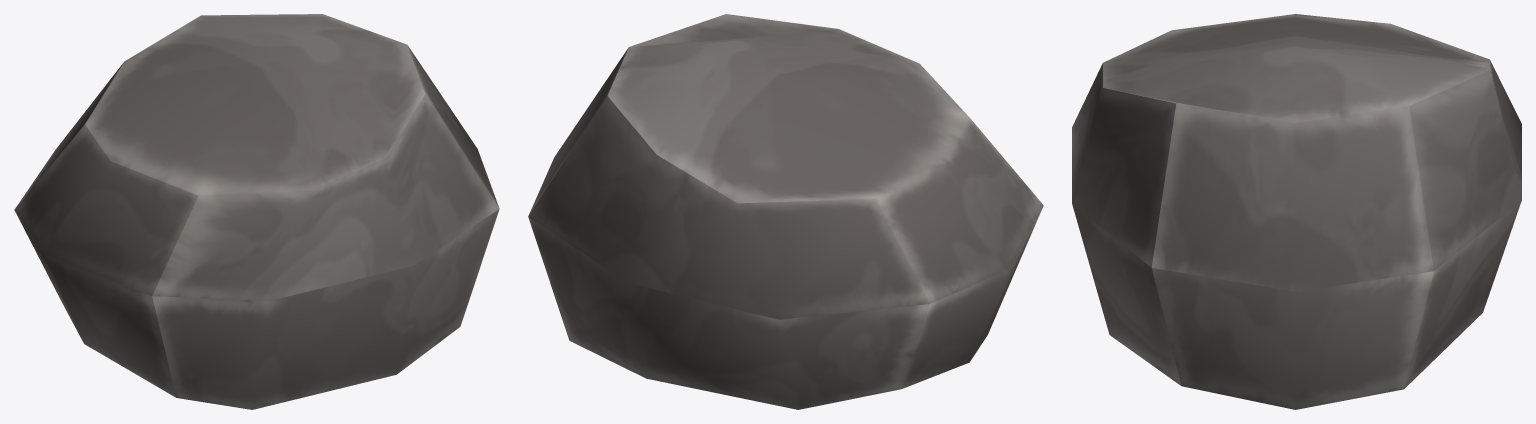
File: SmallStone1.FBX
3 views of the same model, side by side, from view 1: azimuth 30°, elevation 25°; view 2: azimuth 150°, elevation 25°; view 3: azimuth 270°, elevation 25° (orthographic). The views are drawn at different scales.
Parts seen in each view (by area): view 1: SmallStone1; view 2: SmallStone1; view 3: SmallStone1.
Boxes of the visible parts, box(x1,y1,x2,y2) form: SmallStone1: box(14, 14, 499, 409); SmallStone1: box(528, 14, 1043, 409); SmallStone1: box(1072, 14, 1521, 409).
Bounding box in the file's own units: 29.64 × 17.57 × 24.71.
